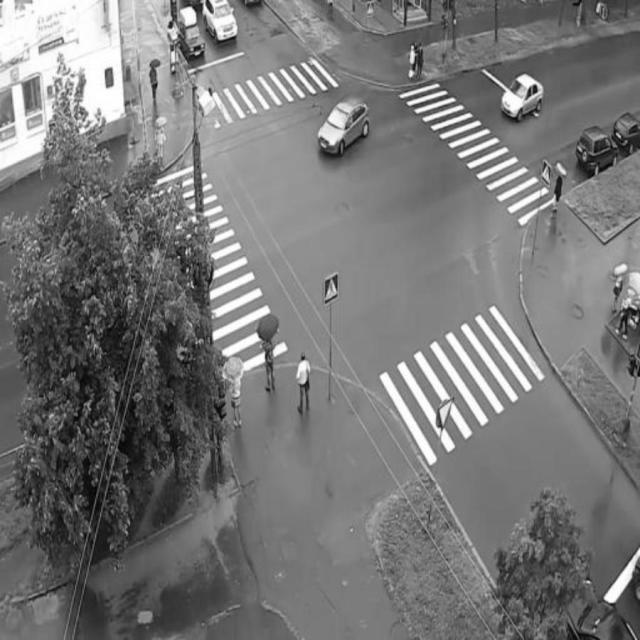person: (253, 310, 283, 401), (295, 345, 319, 431), (225, 352, 247, 434), (550, 153, 565, 226), (148, 60, 165, 117), (413, 32, 429, 90), (618, 287, 633, 342), (609, 269, 625, 320), (153, 116, 167, 171), (409, 40, 419, 84)
vehicle: (322, 94, 372, 161), (571, 127, 615, 177), (503, 69, 545, 120), (608, 105, 638, 162), (181, 8, 207, 69), (207, 1, 241, 46)
